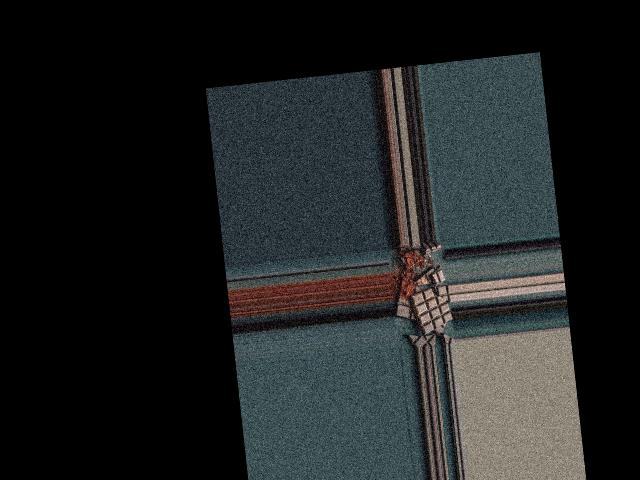chocolate: (409, 286, 454, 337)
